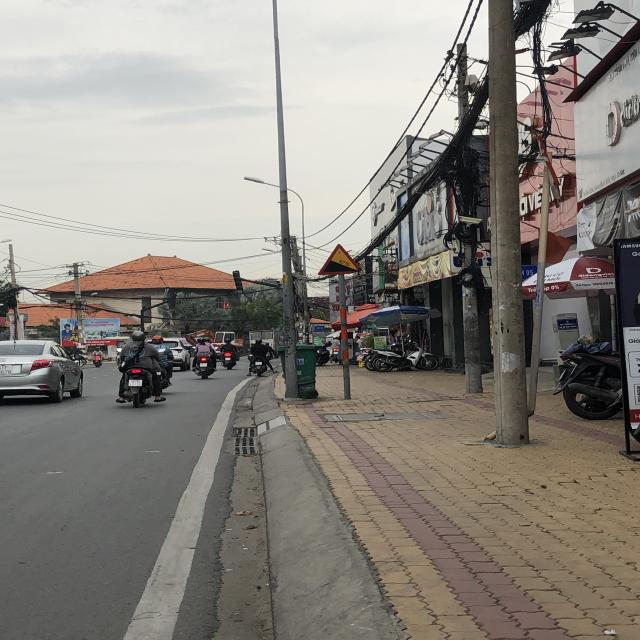Bien bao doc xuong nguy hiem: (317, 242, 364, 277)
